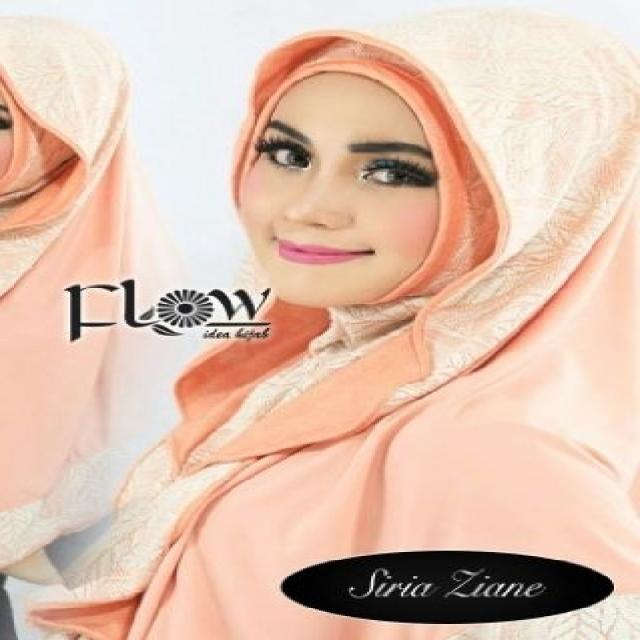head: (224, 27, 591, 315)
